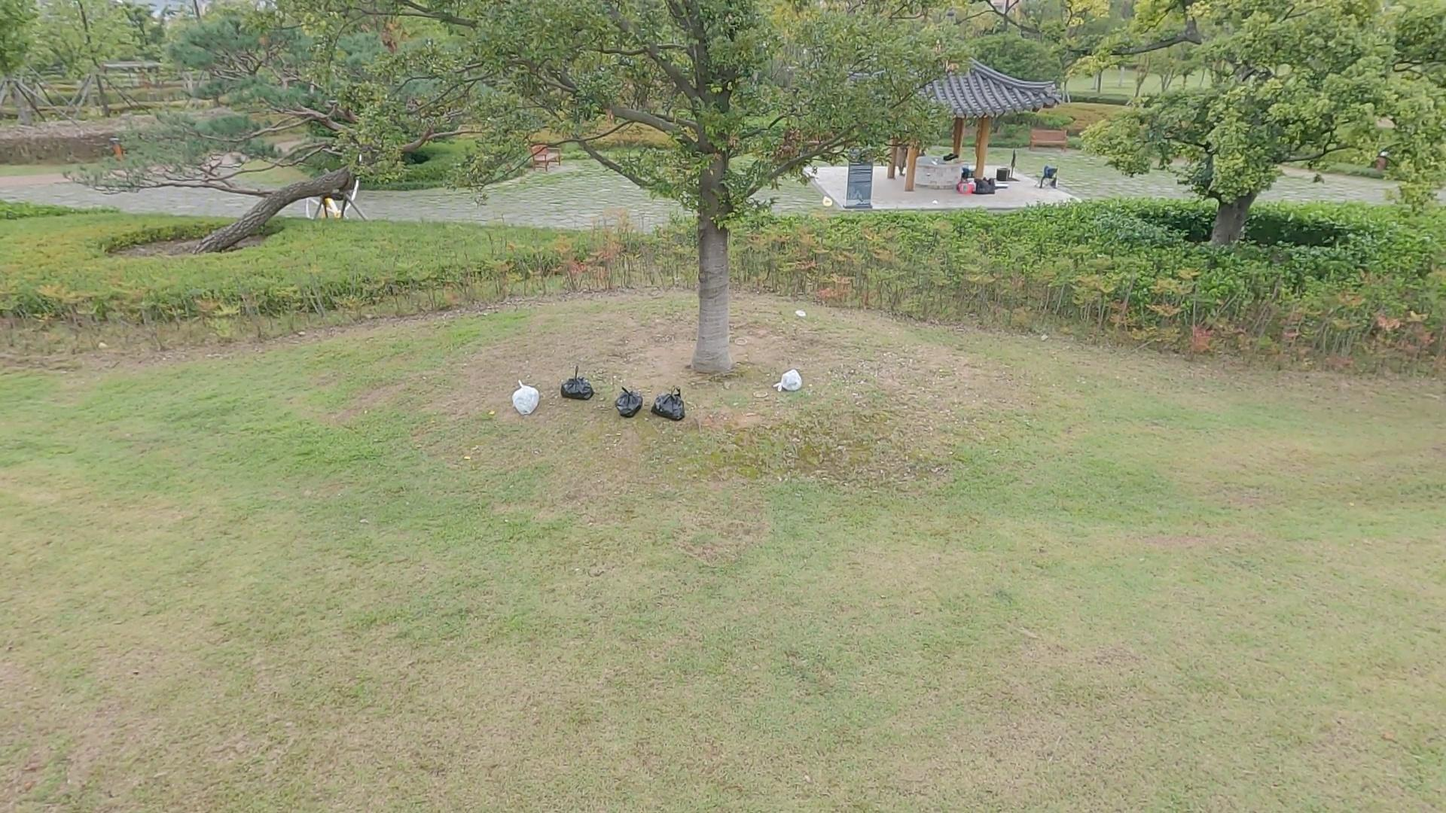trash: (560, 364, 594, 403), (651, 385, 686, 421), (511, 380, 541, 416), (615, 386, 644, 418), (774, 368, 802, 393), (795, 308, 807, 318)
